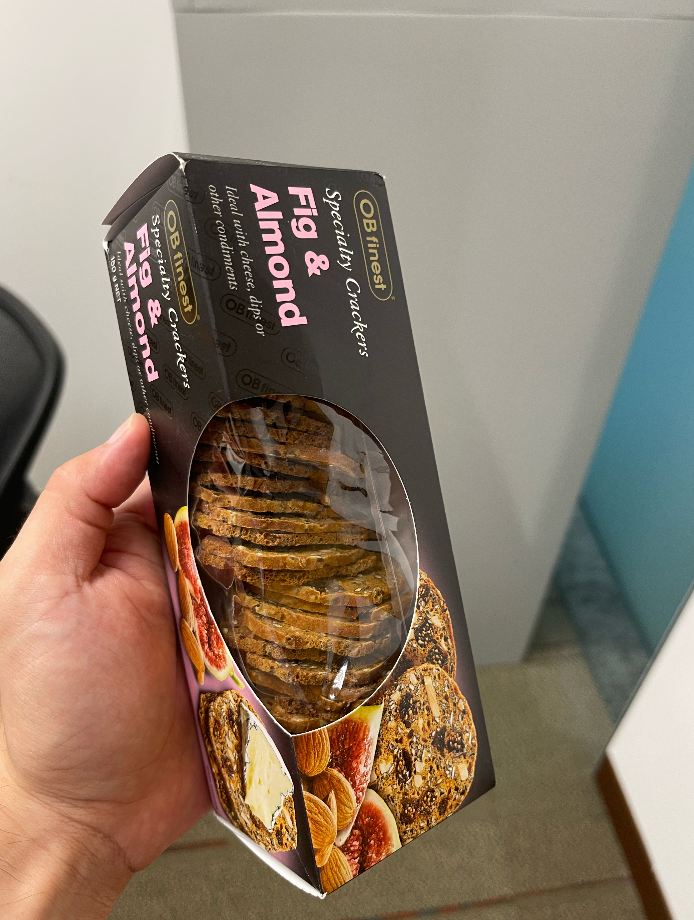crackers_100g-199g: (167, 191, 455, 837)
